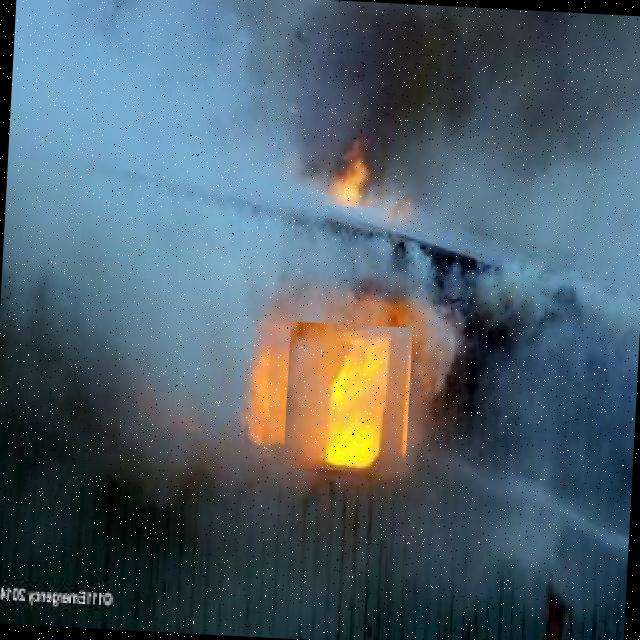fire: (284, 322, 412, 474), (325, 136, 387, 208)
